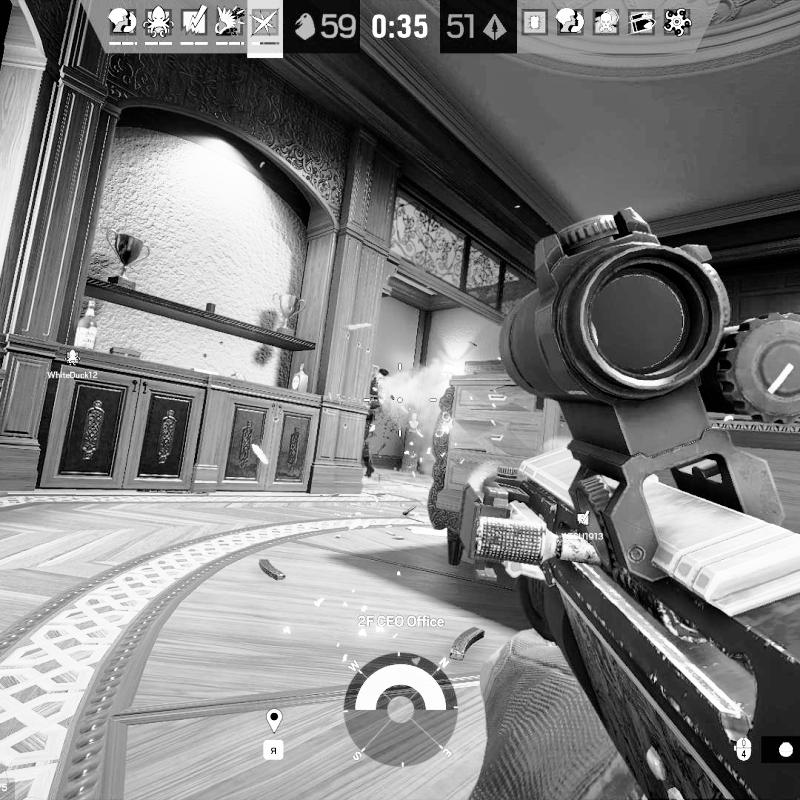Character: (356, 366, 394, 480)
Friend_label: (43, 345, 100, 380), (560, 510, 604, 542)
Head: (374, 367, 390, 386)
